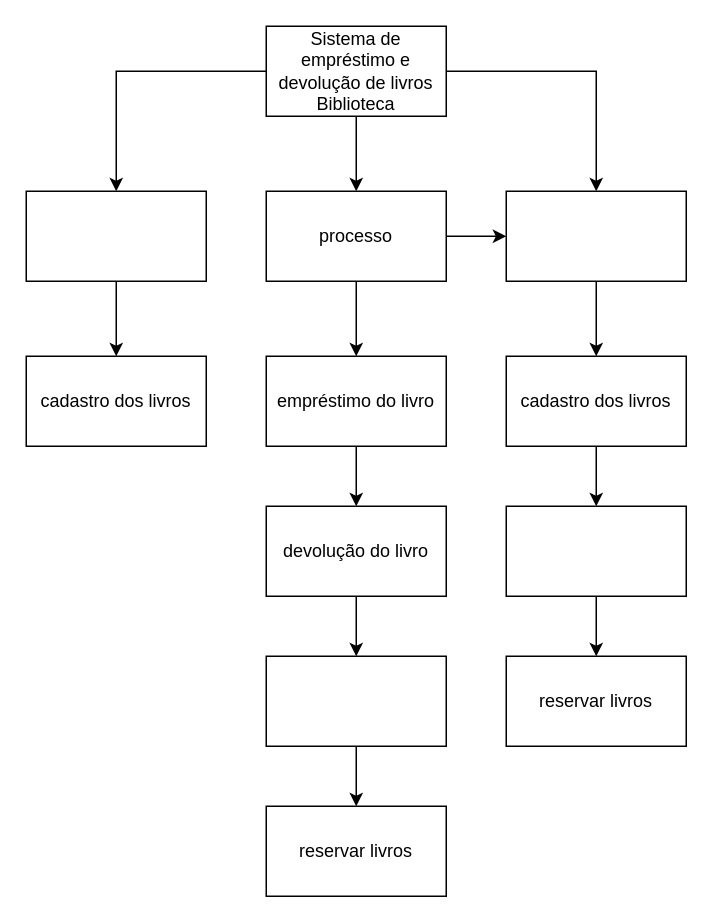
This 713x923 diagram has some shape labels left out. The centre of each missing label's shape, as x and y in pixels:
"cadastro" goes at point (115, 235).
"consulta e relatório" goes at point (595, 235).
"empréstimo e devolução dos livros" goes at point (595, 550).
"Livros disponíveis para empréstimo" goes at point (355, 700).
